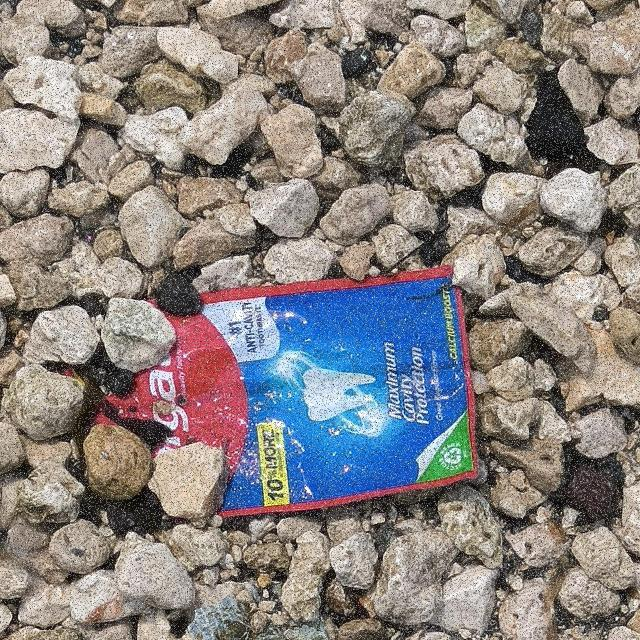plastic_waste: (62, 265, 482, 521)
